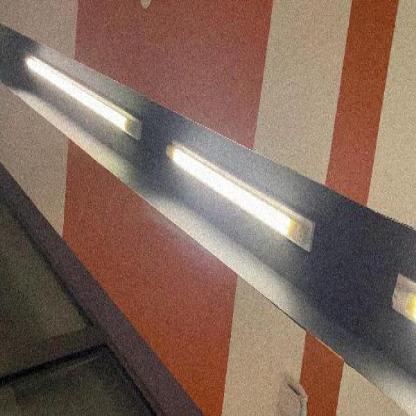light_on: (166, 132, 317, 258), (26, 44, 148, 152), (382, 262, 416, 338)
